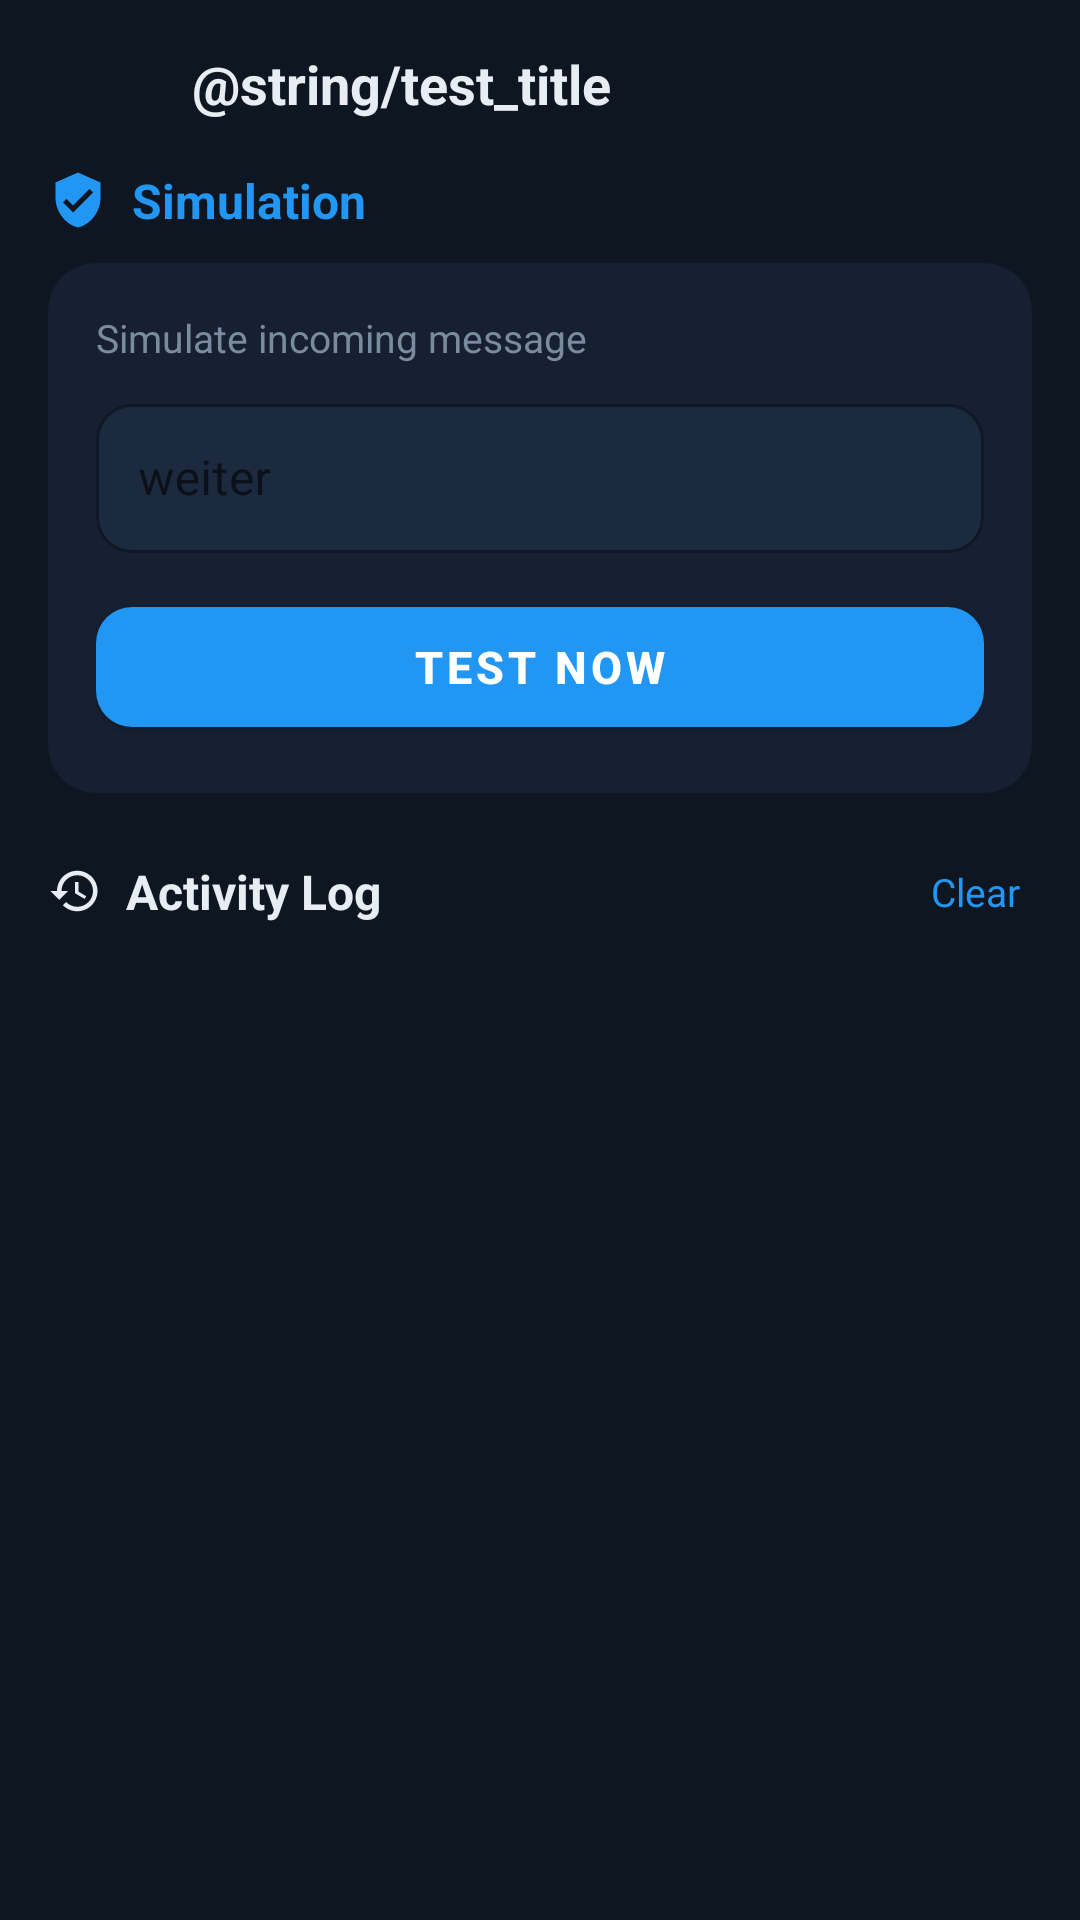

Where icons sit on this 1080 x 1920 app screen, as BBox(x1, y1, x2, y2):
history: BBox(50, 870, 98, 912)
shield: BBox(55, 172, 101, 228)
